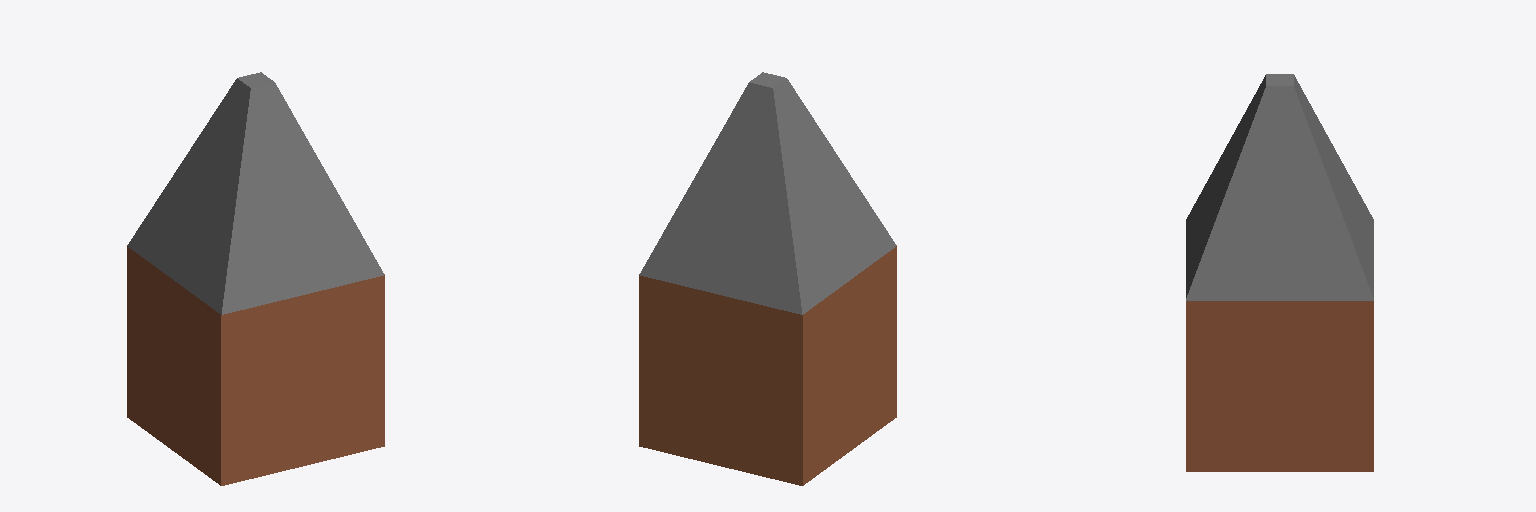
File: House.obj
3 renders of one model, left to right at view 1: azimuth 30°, elevation 25°; view 2: azimuth 150°, elevation 25°; view 3: azimuth 270°, elevation 25°, orthographic.
Visible parts, largest first — view 1: pCube2; view 2: pCube2; view 3: pCube2.
Part boxes in pixels (left/top/right/bottom): pCube2: left=127, top=72, right=384, bottom=485; pCube2: left=639, top=72, right=896, bottom=485; pCube2: left=1186, top=74, right=1373, bottom=471.
Bounding box in the file's own units: 25.09 × 51.53 × 25.09.